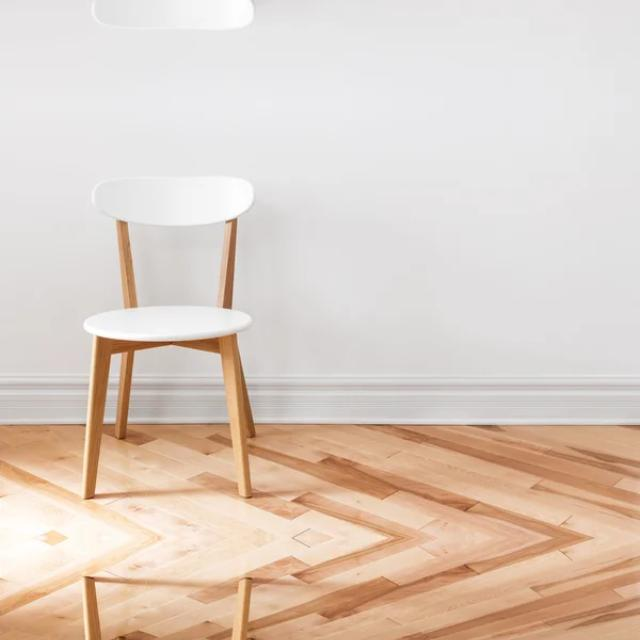obstacle: (70, 166, 280, 510), (70, 564, 279, 640), (70, 0, 279, 38)
